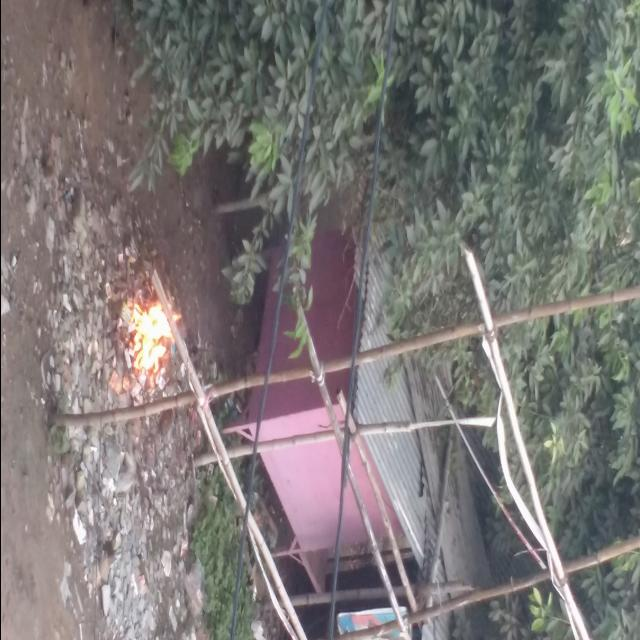firerotation: (127, 294, 183, 386)
